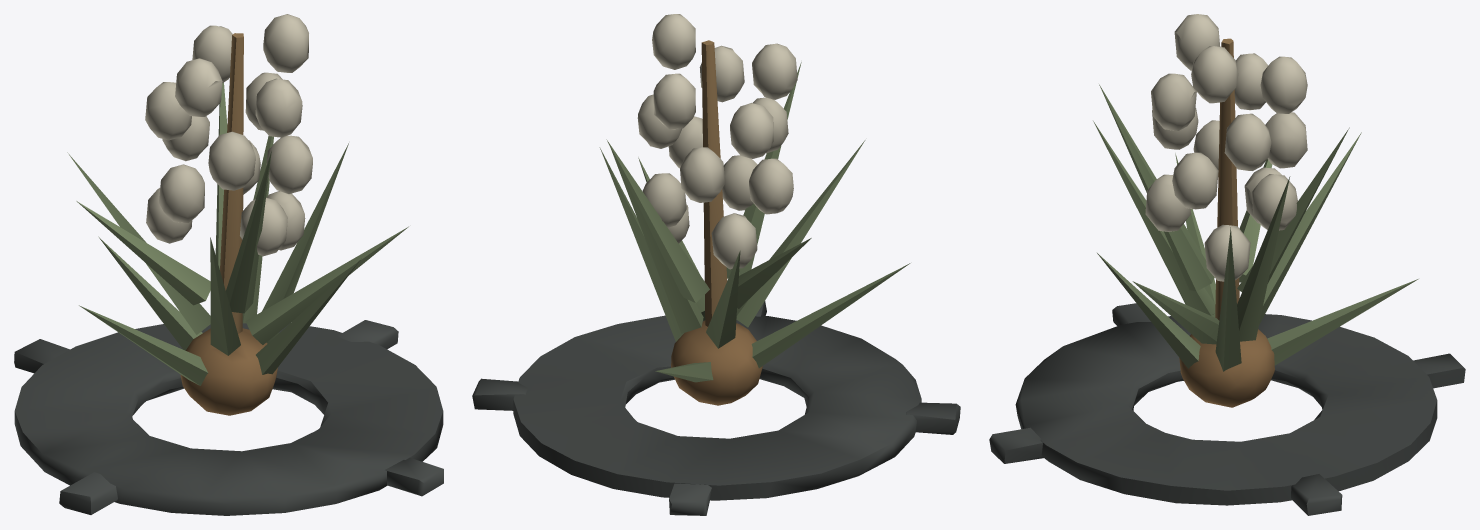
Rendered from yucca_c_lod1.glb.
3 views of the same model, side by side, from view 1: azimuth 30°, elevation 25°; view 2: azimuth 150°, elevation 25°; view 3: azimuth 270°, elevation 25° (orthographic). The views are drawn at different scales.
Parts seen in each view (by area): view 1: Surface.001; view 2: Surface.001; view 3: Surface.001.
Part boxes in pixels (<box>): Surface.001: <box>14,14,443,515</box>; Surface.001: <box>472,14,960,515</box>; Surface.001: <box>989,14,1465,515</box>.
Size of the model in its own units: 2.25 by 2.07 by 2.25.
